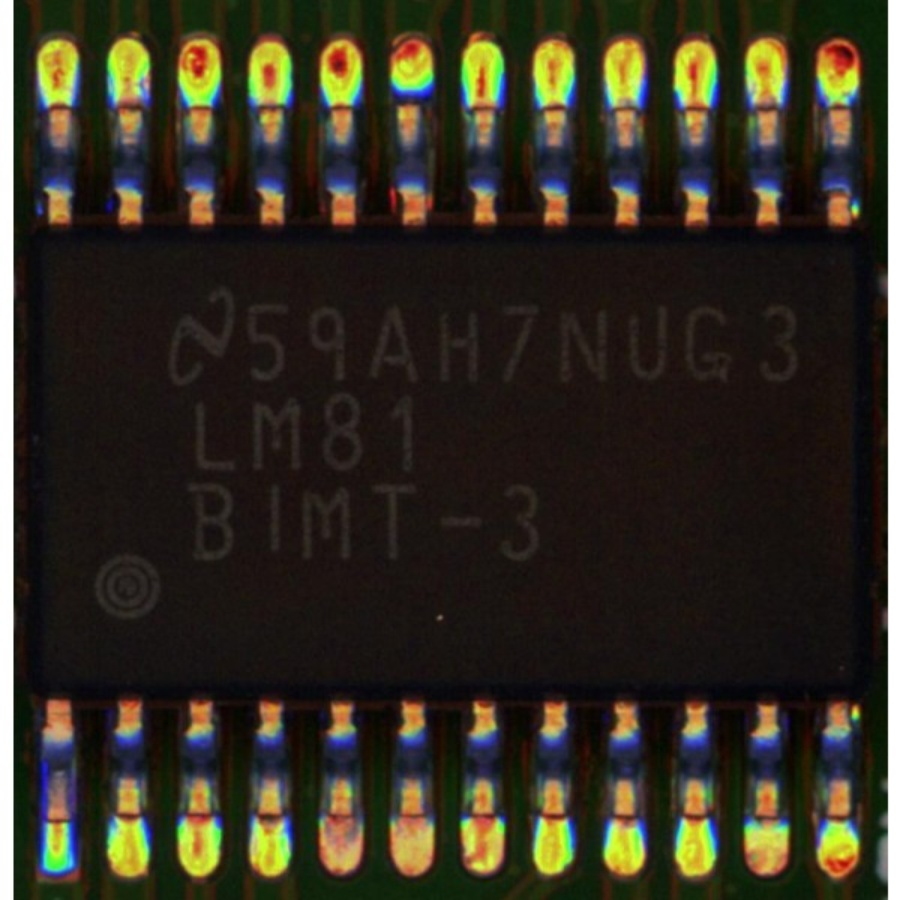Bad_podu: (469, 79, 494, 129), (757, 87, 779, 129), (684, 91, 706, 131), (119, 90, 142, 126), (470, 795, 494, 827), (331, 794, 351, 830), (542, 798, 563, 832), (193, 796, 210, 835), (257, 805, 282, 831), (48, 808, 66, 843), (403, 800, 423, 830), (615, 804, 635, 833), (686, 802, 704, 833)
